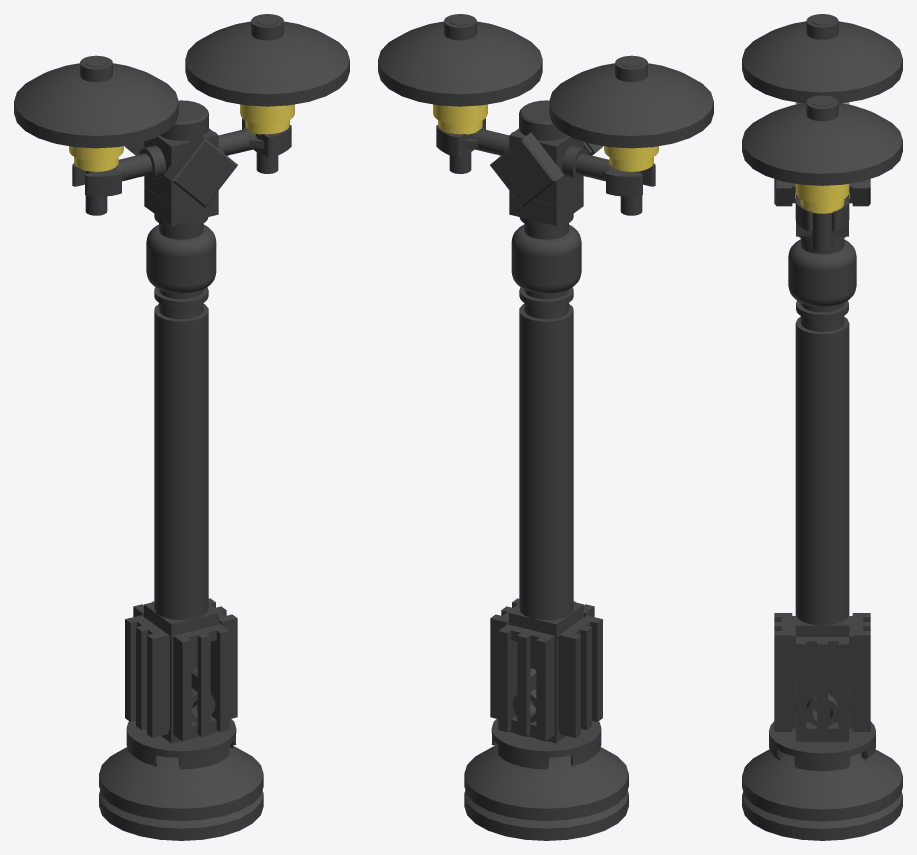
Rendered from lamp.fbx.
3 views of the same model, side by side, from view 1: azimuth 30°, elevation 25°; view 2: azimuth 150°, elevation 25°; view 3: azimuth 270°, elevation 25° (orthographic). The views are drawn at different scales.
Parts seen in each view (by area): view 1: lamp; view 2: lamp; view 3: lamp.
Boxes of the visible parts, x1,y1,x2,y2 form: lamp: (14,14,349,840); lamp: (378,14,713,840); lamp: (742,14,902,840).
Bounding box in the file's own units: 79.2 × 184 × 36.
